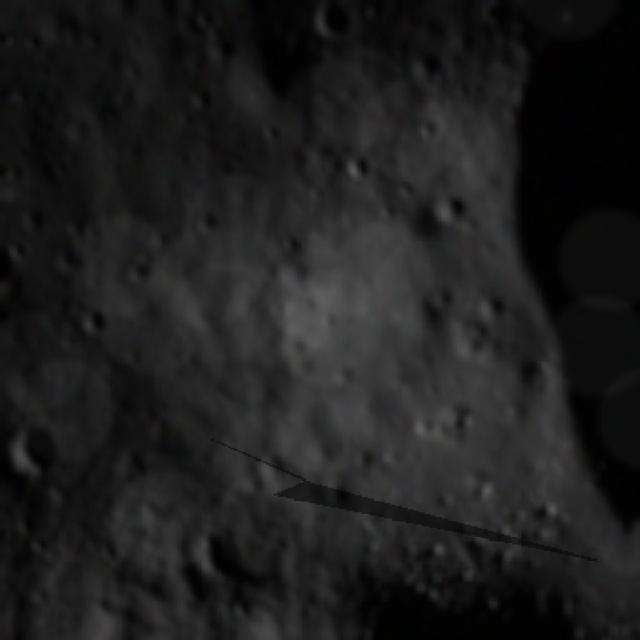crater: (183, 518, 254, 596), (0, 410, 65, 484), (421, 180, 476, 235), (334, 140, 384, 188), (242, 440, 290, 489), (399, 44, 447, 88), (200, 24, 242, 68), (310, 137, 348, 180), (124, 244, 158, 290), (472, 281, 508, 324), (308, 0, 350, 34), (76, 305, 110, 344), (190, 204, 227, 238), (179, 81, 216, 113), (322, 472, 352, 511), (407, 410, 439, 441), (256, 115, 287, 146), (276, 224, 306, 256), (50, 244, 85, 271), (191, 0, 220, 32), (429, 278, 457, 311), (4, 239, 36, 264), (98, 399, 122, 427), (316, 307, 339, 336), (21, 27, 44, 55), (357, 444, 380, 468), (12, 509, 34, 534), (28, 531, 50, 555), (8, 156, 28, 182), (20, 180, 45, 200), (298, 287, 318, 311), (194, 448, 215, 470), (215, 382, 234, 404), (452, 79, 472, 99), (101, 544, 122, 562), (268, 294, 282, 320), (0, 520, 6, 546)
